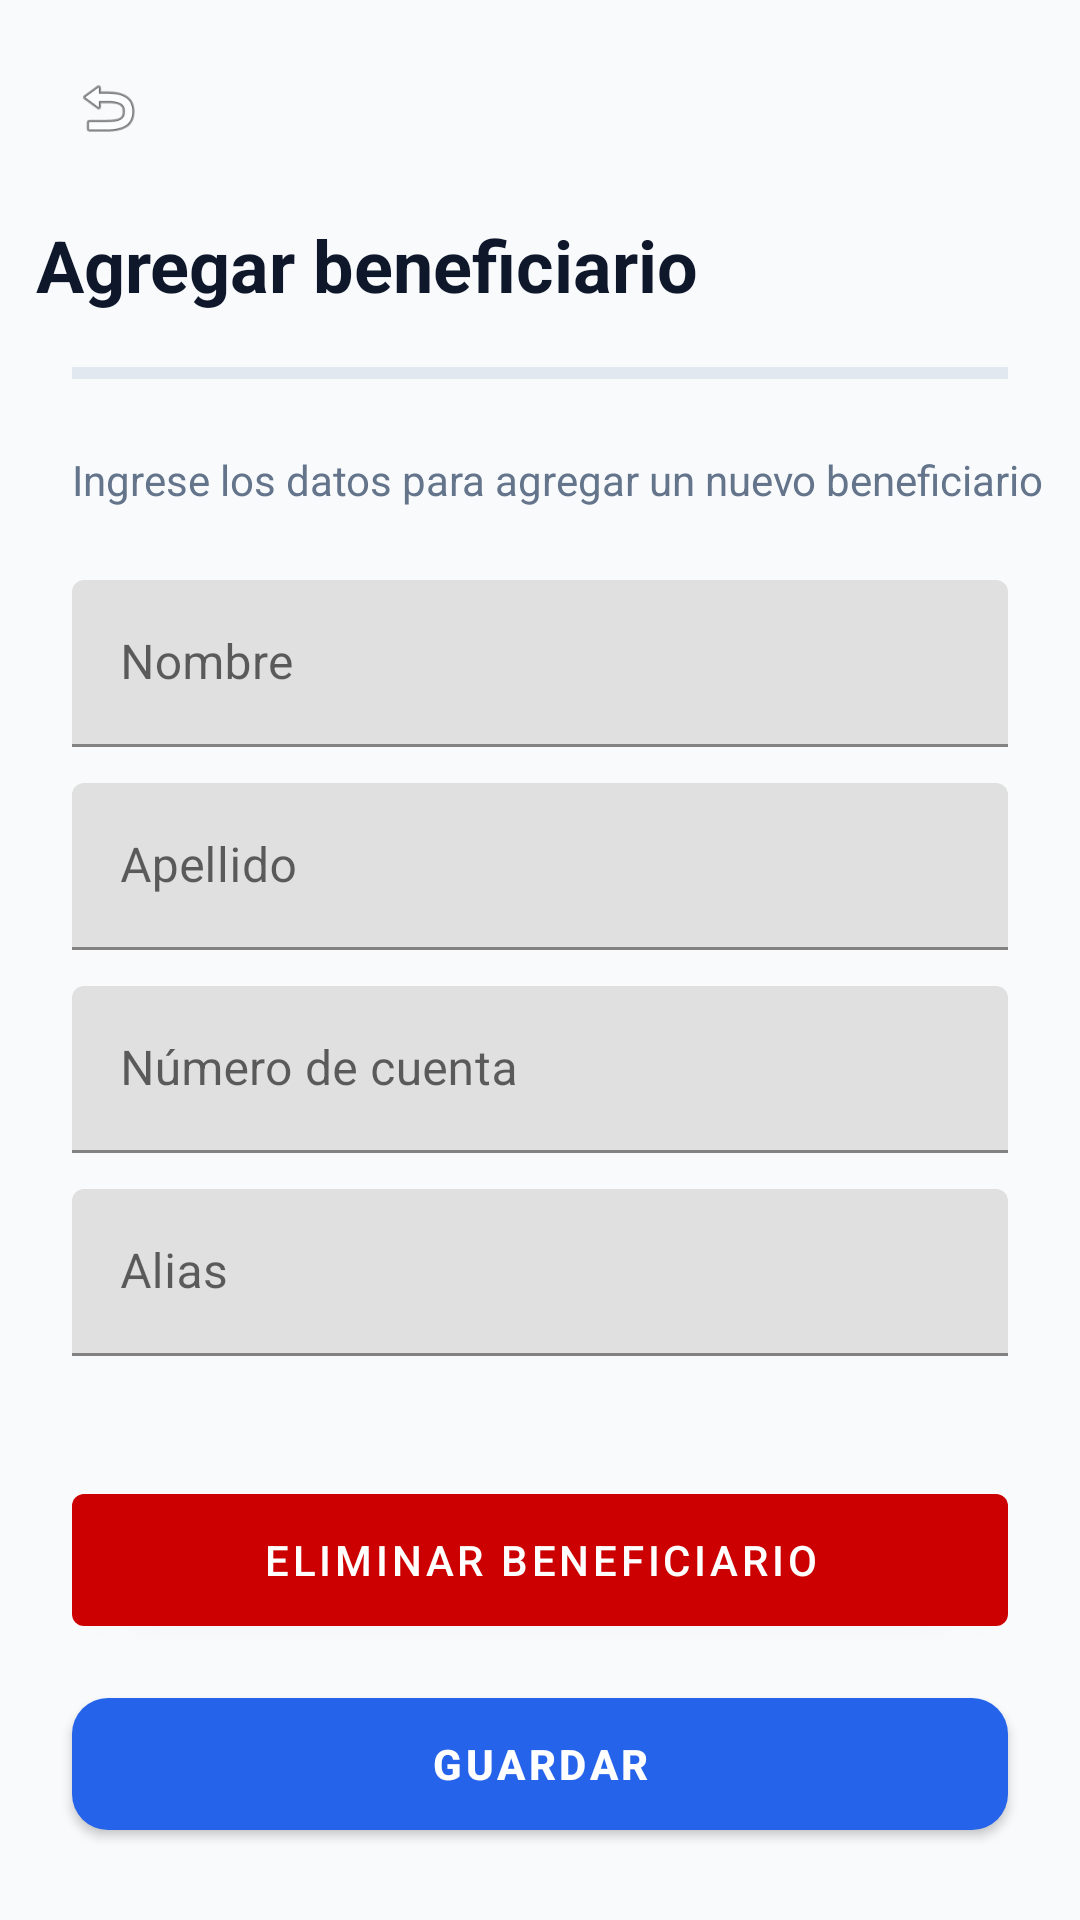

Icons on this 1080px×1920px Android screen, each with its box as [x1=x1, y1=y1, x2=x2, y2=y2]:
revert: [x1=83, y1=85, x2=135, y2=132]
